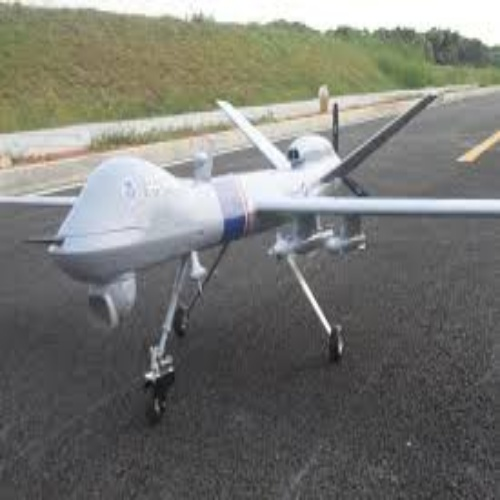uav: (4, 94, 499, 426)
